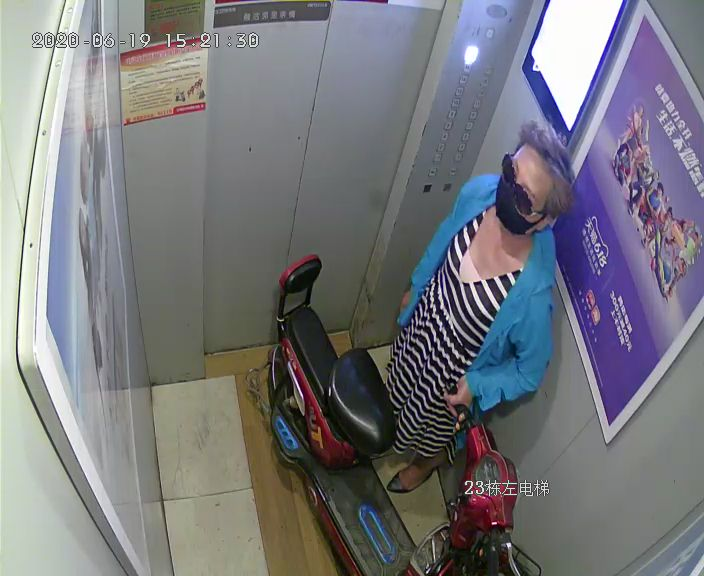Electric-bicycle: (268, 257, 528, 570)
